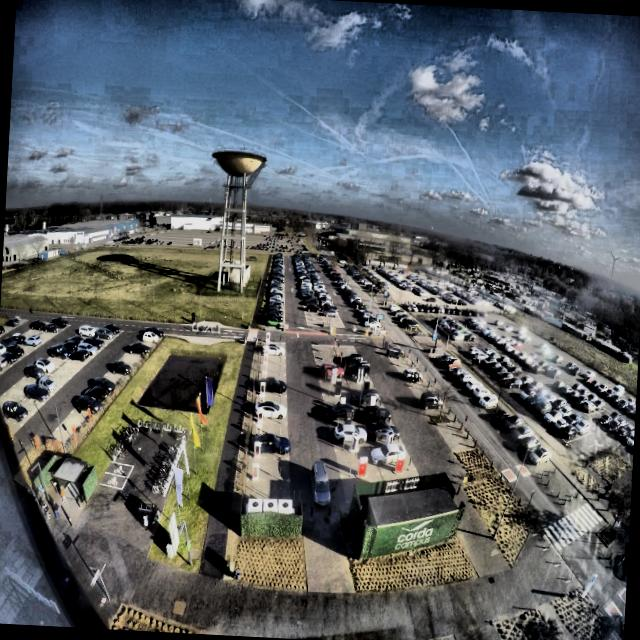cabinet: (249, 498, 292, 510)
car: (307, 456, 335, 508), (246, 432, 290, 454), (256, 398, 290, 418), (254, 373, 286, 392), (264, 340, 286, 356)
parking: (248, 456, 290, 481), (246, 479, 290, 500), (250, 438, 289, 458), (252, 421, 288, 439), (254, 406, 288, 422), (255, 393, 288, 406), (259, 361, 286, 374), (262, 348, 286, 362), (256, 382, 286, 392), (258, 374, 286, 384), (262, 342, 286, 349)
